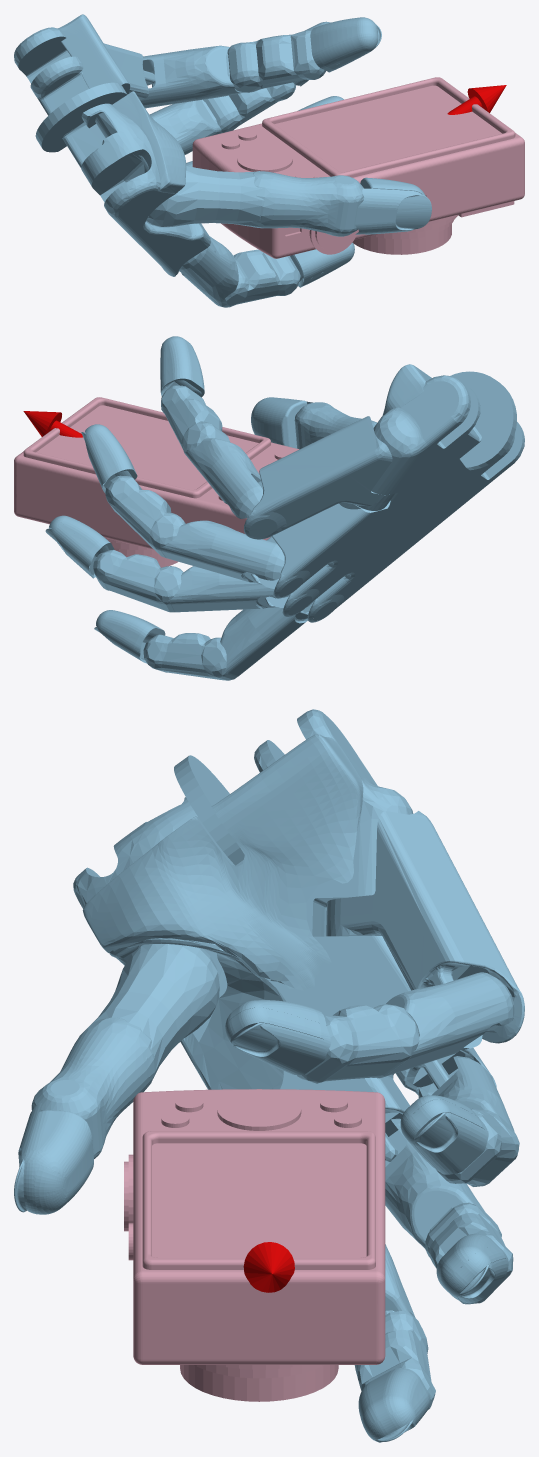
The picture shows the model from 3 angles, top to bottom: view 1: azimuth 30°, elevation 25°; view 2: azimuth 150°, elevation 25°; view 3: azimuth 270°, elevation 25°; orthographic projection. The views are drawn at different scales.
Visible parts, largest first — view 1: world, camera.stl; view 2: world, camera.stl; view 3: world, camera.stl.
Boxes of the visible parts, box(x1,y1,x2,y2) form: world: box(14, 14, 506, 307); camera.stl: box(192, 77, 524, 258); world: box(23, 336, 524, 680); camera.stl: box(14, 397, 299, 567); world: box(14, 709, 524, 1442); camera.stl: box(124, 1089, 385, 1401).
Size of the model in its own units: 0.2157 by 0.1497 by 0.1313.
